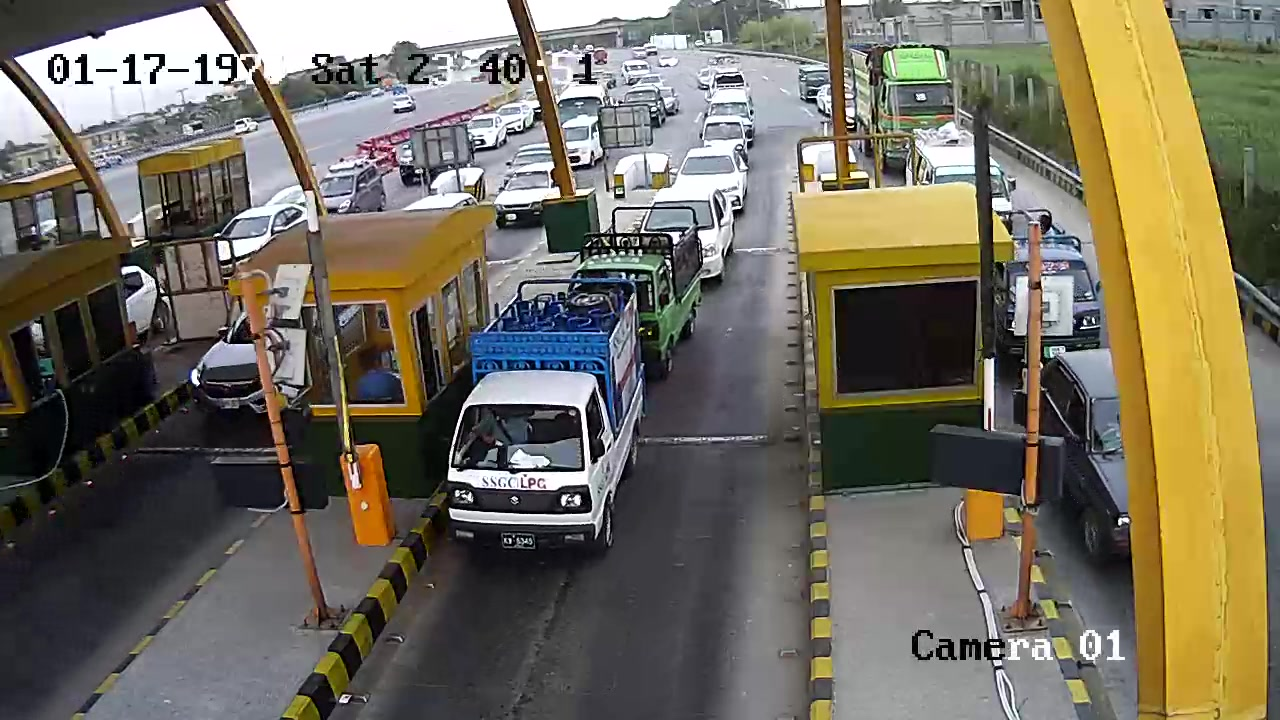F1: (439, 265, 658, 582)
